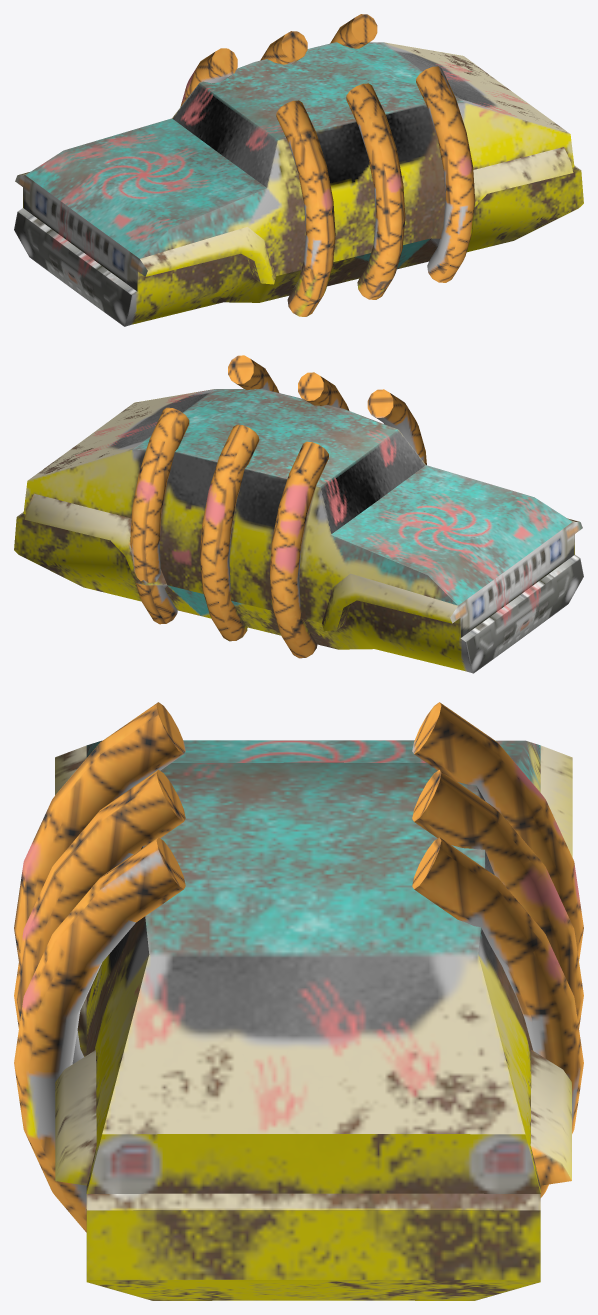
Rendered from ham final.FBX.
3 renders of one model, top to bottom at view 1: azimuth 30°, elevation 25°; view 2: azimuth 150°, elevation 25°; view 3: azimuth 270°, elevation 25°, orthographic. The views are drawn at different scales.
Visible parts, largest first — view 1: Hammer; view 2: Hammer; view 3: Hammer.
Boxes of the visible parts, <box> form: Hammer: <box>14,14,583,326</box>; Hammer: <box>14,355,583,673</box>; Hammer: <box>14,702,583,1300</box>.
Bounding box in the file's own units: 223 × 95.82 × 122.
1 material, 1 textured.
